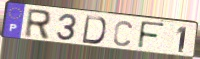1: (176, 26, 187, 53)
3: (56, 13, 78, 42)
C: (112, 20, 134, 48)
D: (80, 15, 107, 45)
F: (136, 20, 166, 51)
R: (23, 8, 52, 41)
